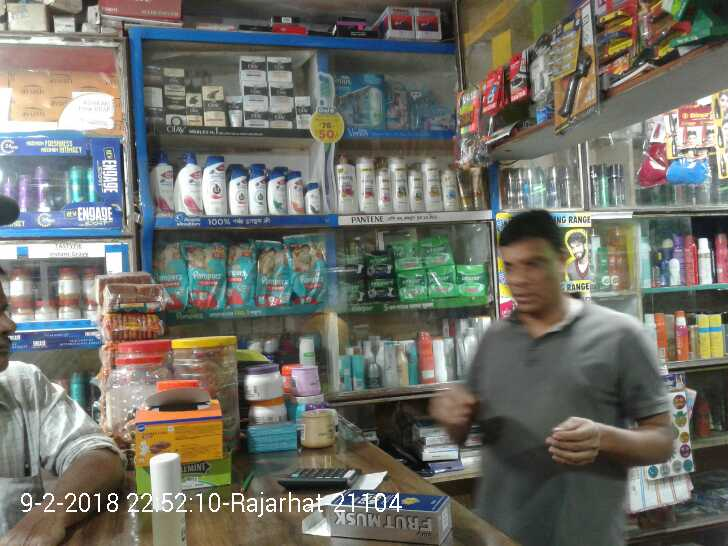venus: (337, 71, 385, 127), (389, 82, 411, 127), (411, 87, 432, 127), (433, 104, 454, 129)
